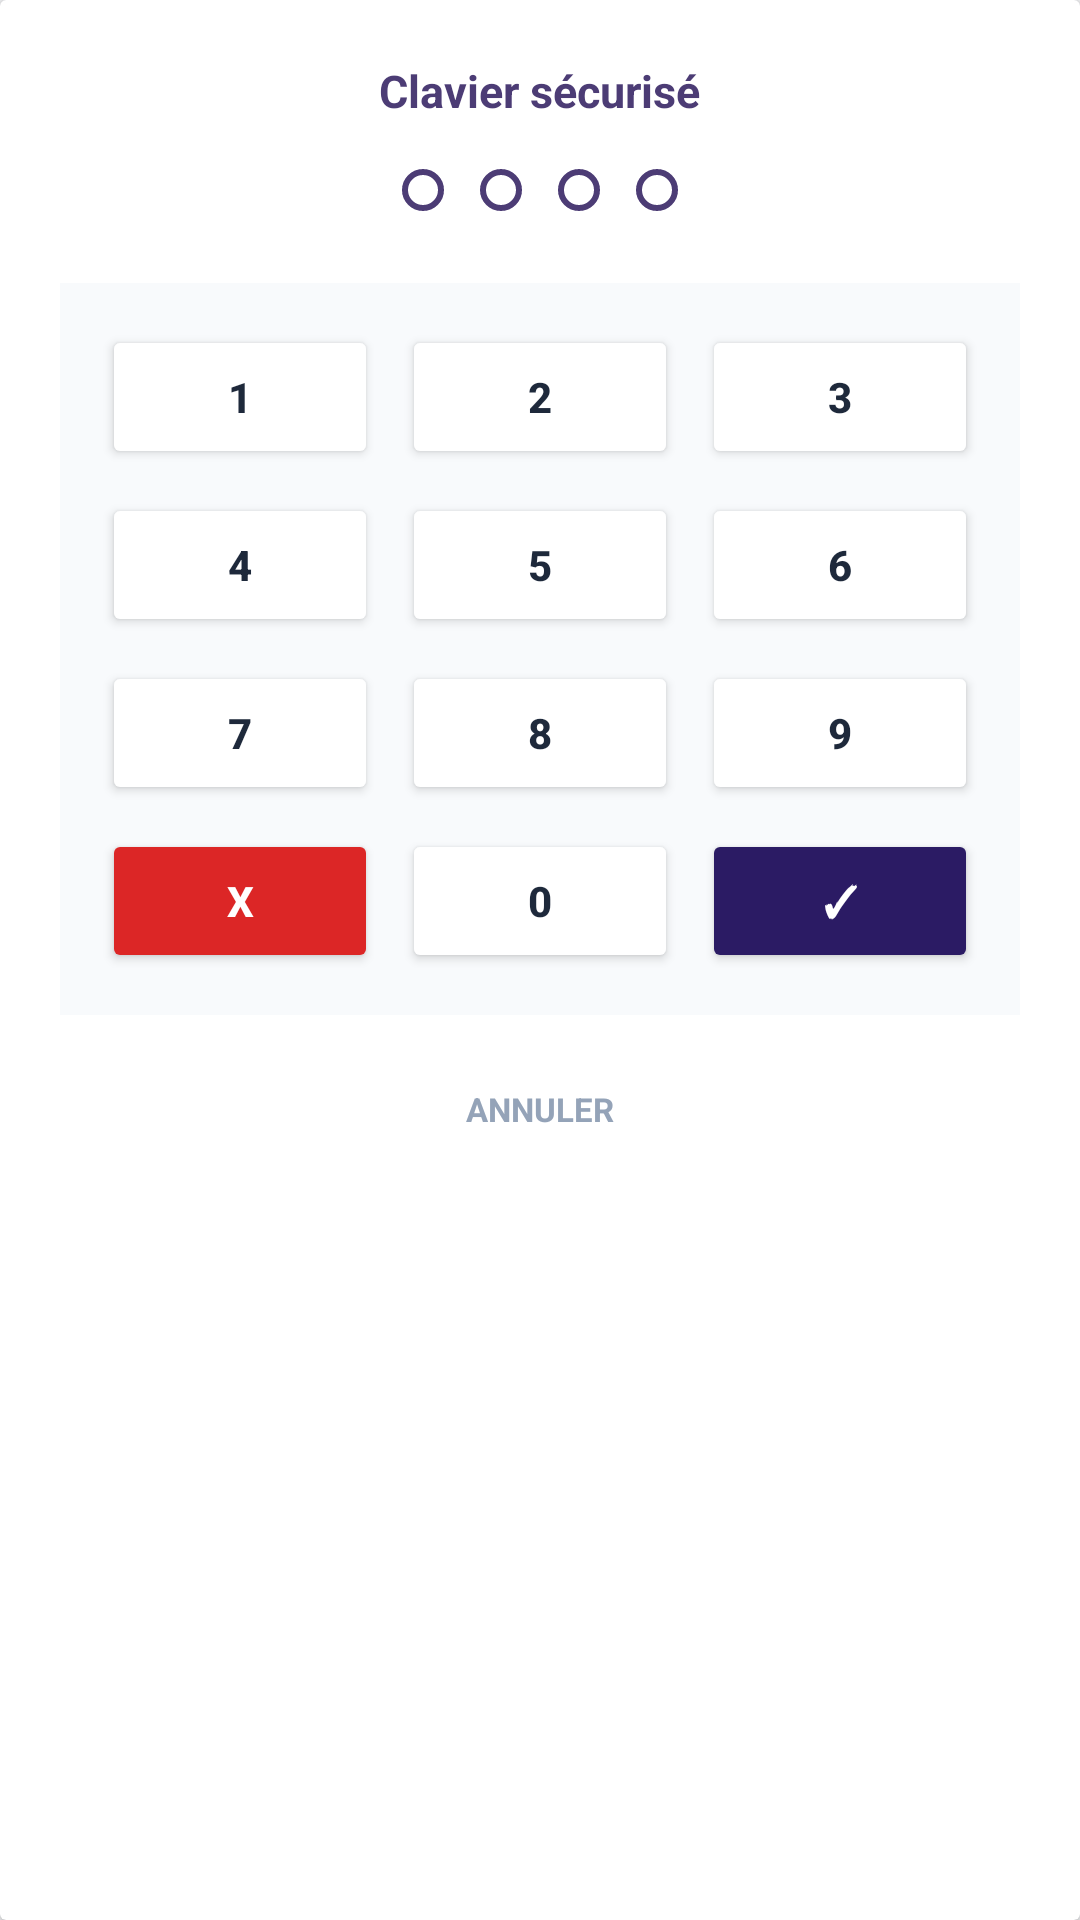

Named icons in this screenshot (1080w x 1920h) and their bounding boxes, {"x1": x1, "y1": y1, "x2": x2, "y2": y2}:
pin dot empty: {"x1": 402, "y1": 169, "x2": 444, "y2": 211}, {"x1": 480, "y1": 169, "x2": 522, "y2": 211}, {"x1": 558, "y1": 169, "x2": 600, "y2": 211}, {"x1": 636, "y1": 169, "x2": 678, "y2": 211}
